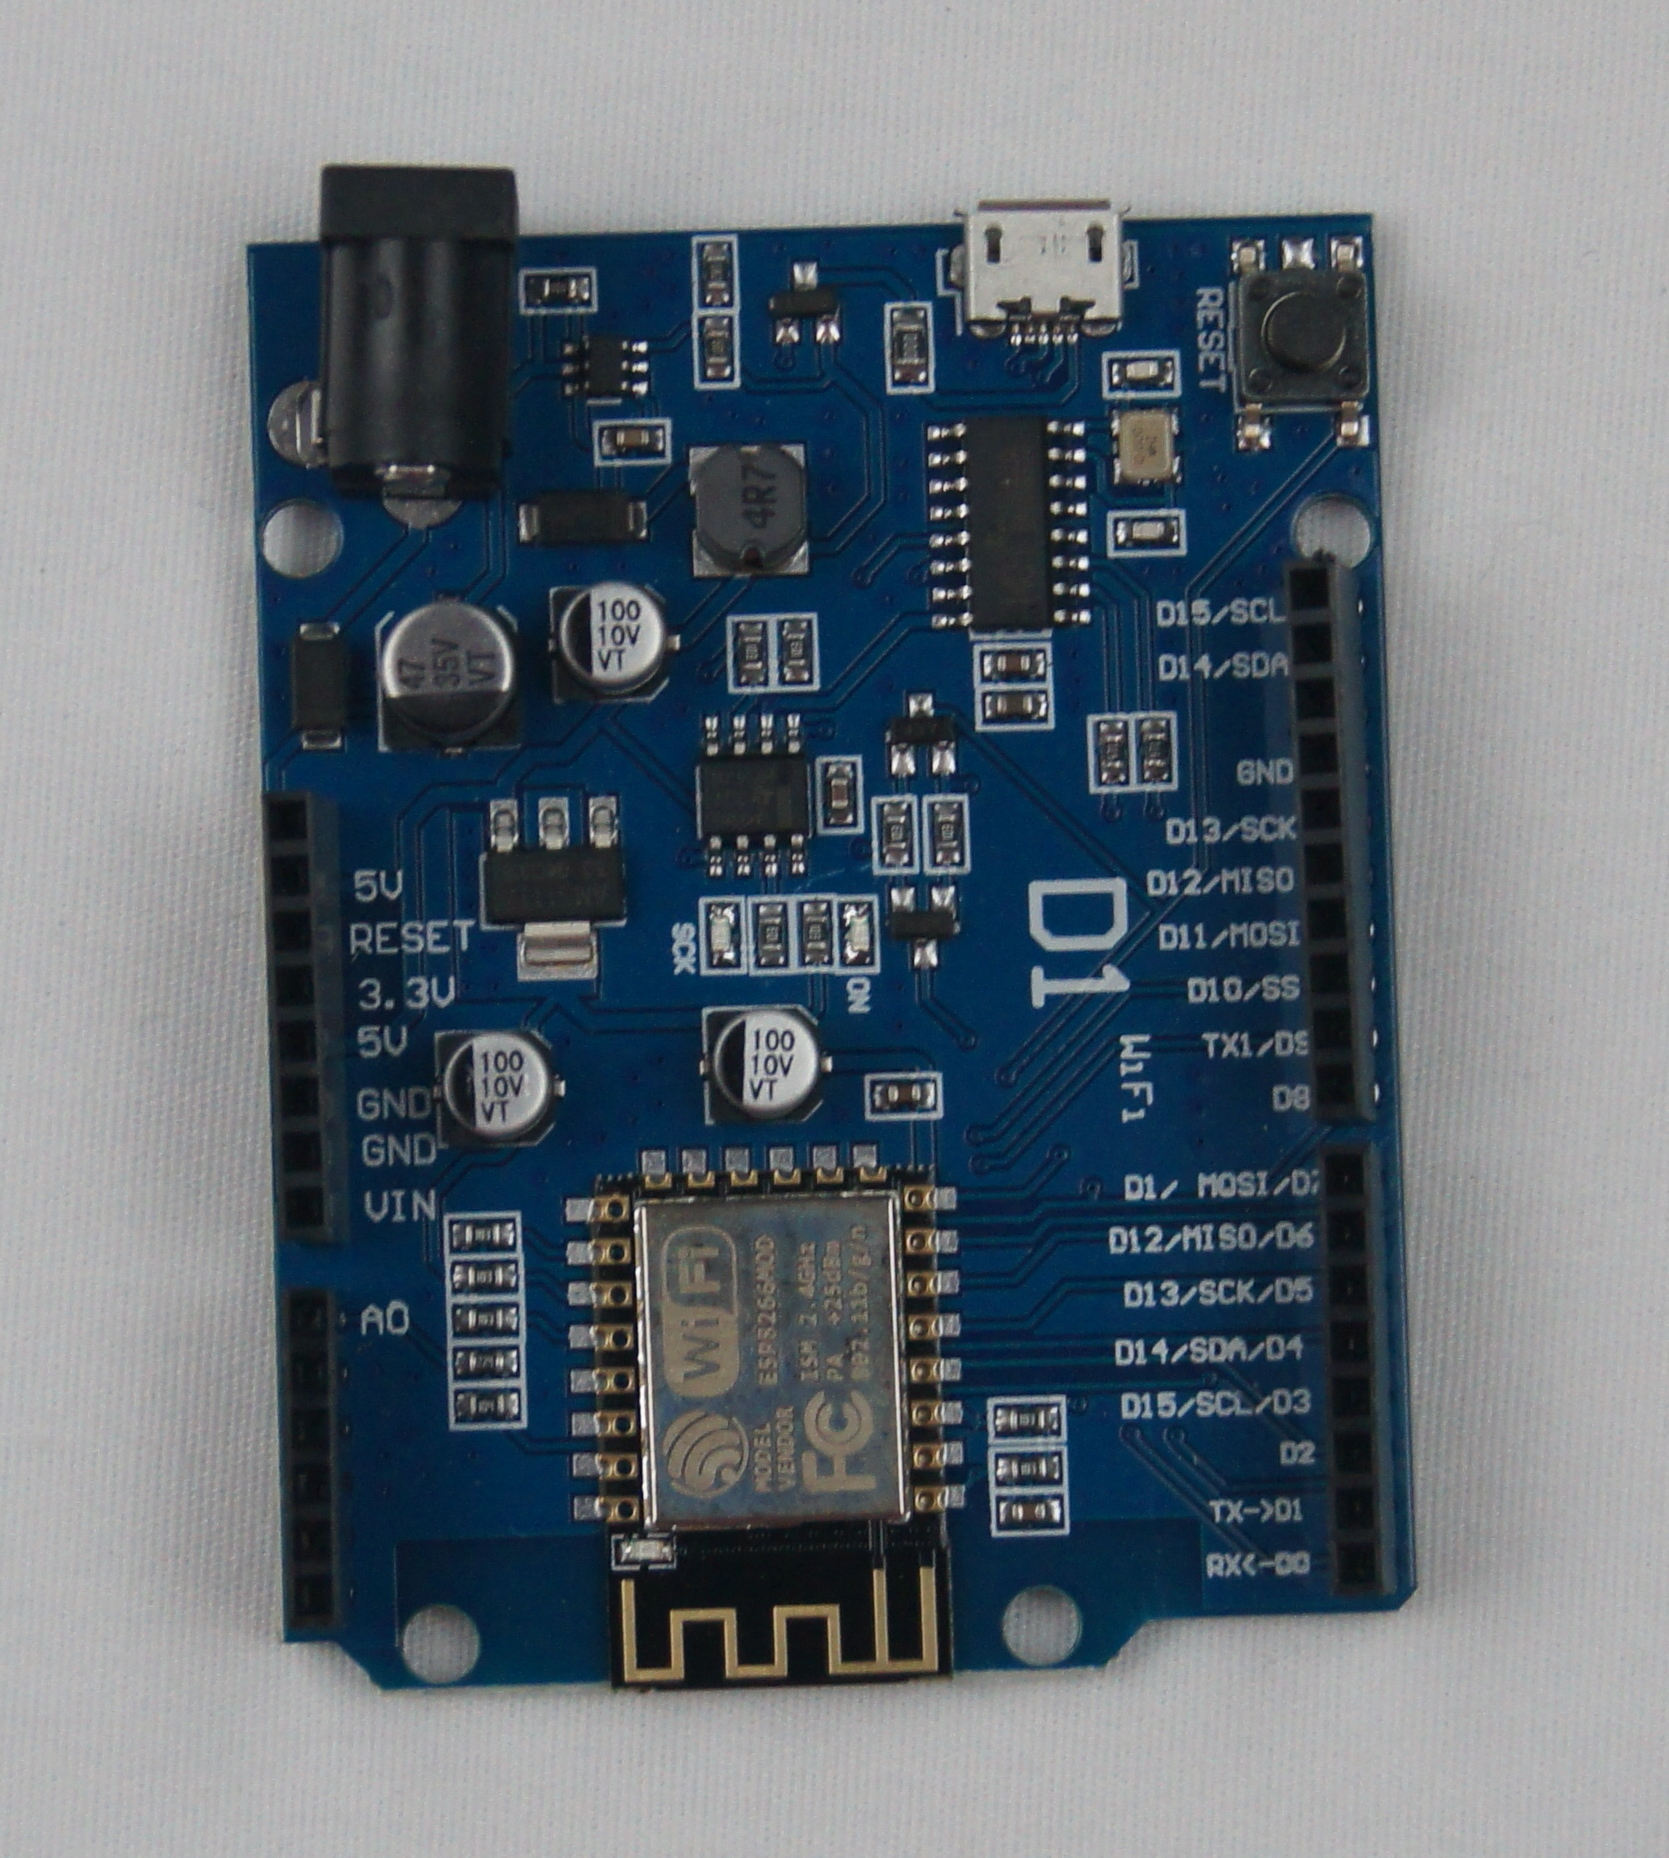resistor: (889, 303, 931, 387), (698, 313, 736, 382), (876, 799, 913, 869), (1137, 714, 1173, 785), (752, 898, 788, 968), (992, 1402, 1063, 1437), (731, 619, 768, 686), (994, 1450, 1062, 1487), (930, 798, 963, 870), (524, 272, 591, 308), (777, 616, 812, 683), (1095, 715, 1129, 786), (448, 1217, 516, 1252), (799, 898, 833, 967), (451, 1257, 517, 1292), (453, 1302, 519, 1338), (453, 1346, 520, 1379), (454, 1387, 520, 1421), (699, 240, 731, 308)
